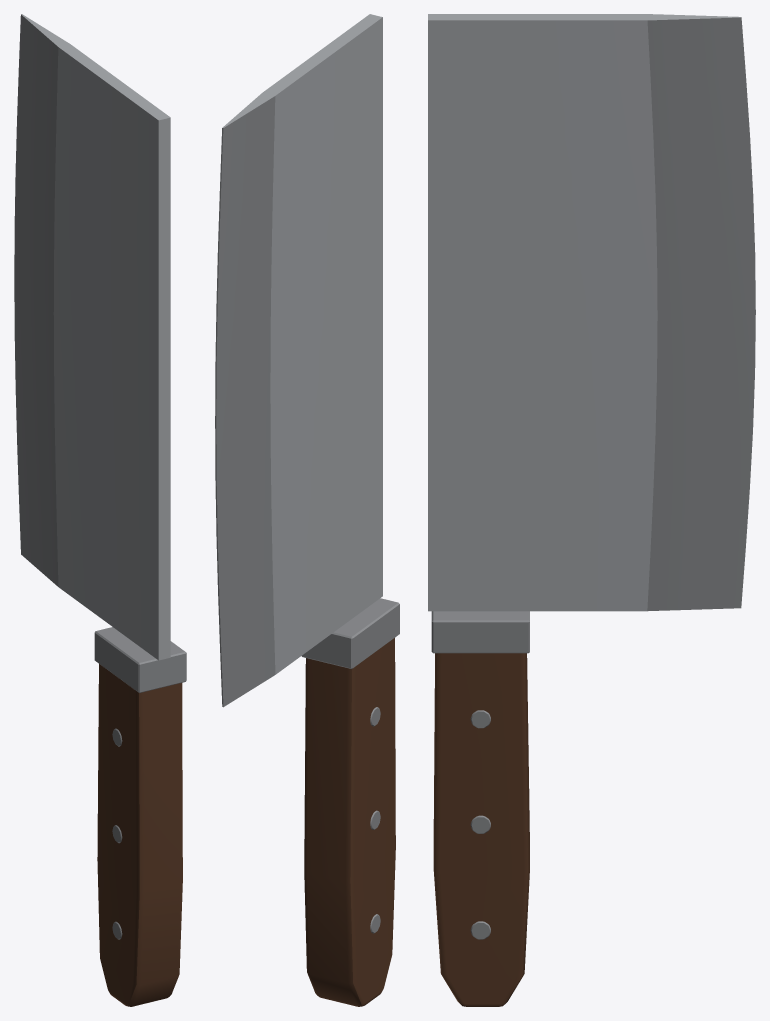
The model's file is wpn_melee_meat_cleaver.glb.
The picture shows the model from 3 angles, left to right: view 1: azimuth 30°, elevation 25°; view 2: azimuth 150°, elevation 25°; view 3: azimuth 270°, elevation 25°; orthographic projection. The views are drawn at different scales.
Parts seen in each view (by area): view 1: Head, Handle, Hardware; view 2: Head, Handle, Hardware; view 3: Head, Handle, Hardware.
Boxes of the visible parts, x1,y1,x2,y2 form: Head: [14, 14, 170, 660]; Handle: [97, 664, 182, 1006]; Hardware: [94, 627, 186, 939]; Head: [215, 14, 382, 707]; Handle: [304, 638, 395, 1006]; Hardware: [301, 598, 399, 933]; Head: [428, 14, 755, 611]; Handle: [433, 653, 529, 1006]; Hardware: [431, 611, 529, 939].
Bounding box in the file's own units: 0.0168 × 0.297 × 0.09.
